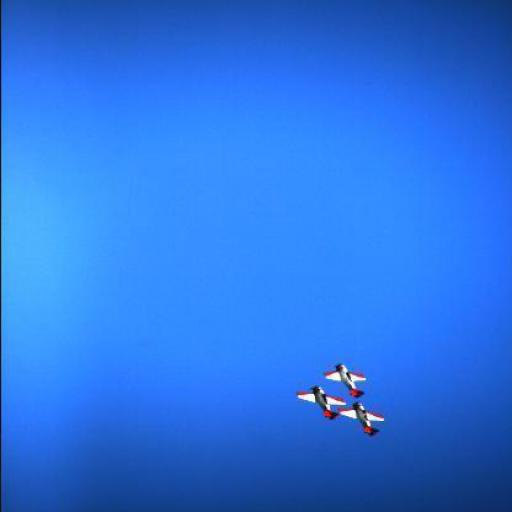aircraft: (316, 357, 376, 399), (341, 398, 395, 440), (294, 384, 346, 423)
